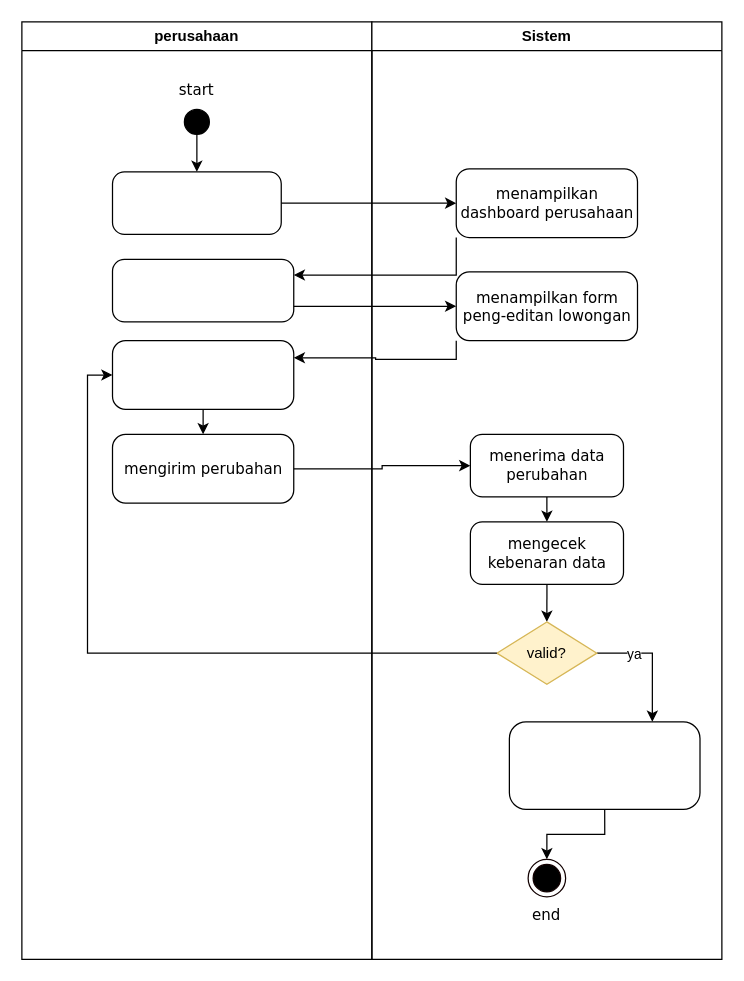
Some shapes in this 744 by 981 pixel diagram are drawn without their labels. The centre of each missing label's shape, as x and y in pixels:
membuka dashboard perusahaan: (196,202)
memilih "edit lowongan": (202,290)
meng-edit sesuatu pada lowongan: (202,374)
menyimpan data perubahan lowongan dan meng-update lowongan: (604,765)
